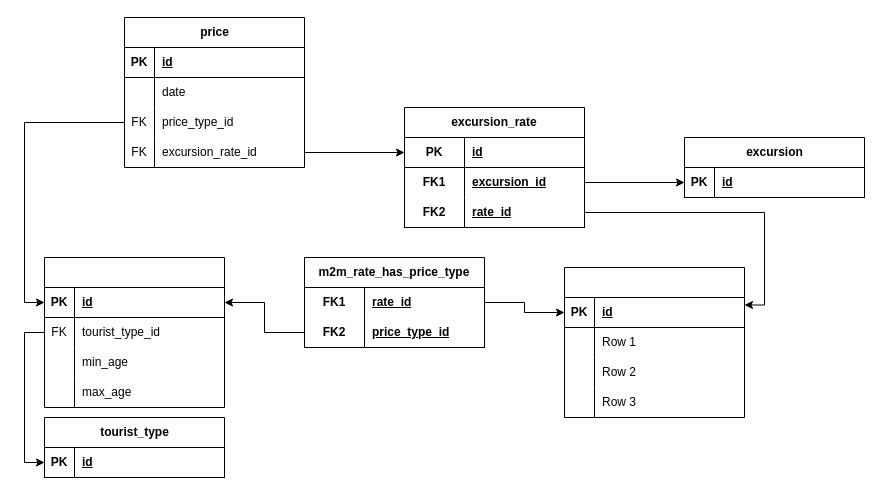
This 882x495 diagram has some shape labels left out. Here are the shapes that lost their labels. From the top down, the box of each, then its label:
(44, 256, 224, 408): price_type
(564, 266, 744, 418): rate
